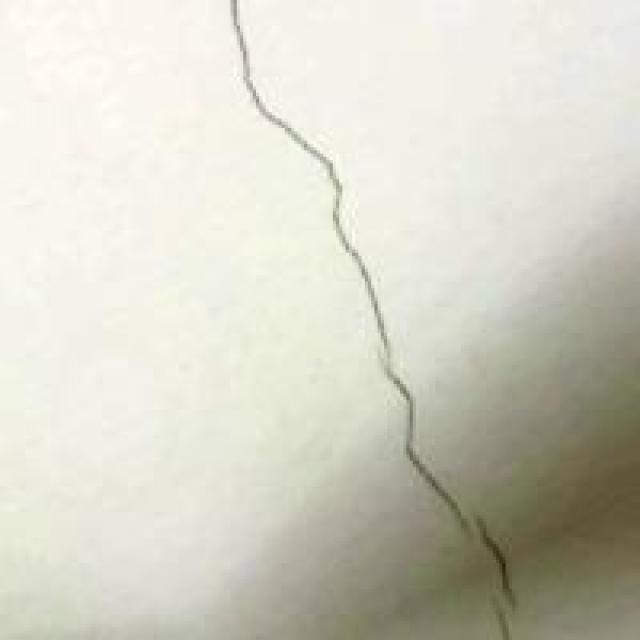crack: (224, 0, 522, 634)
